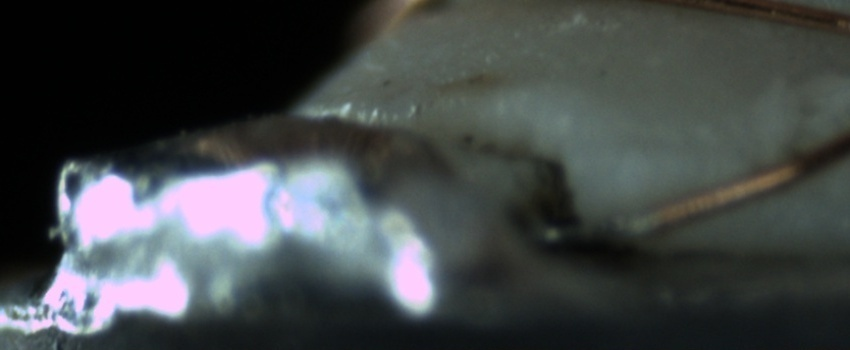DL: (600, 114, 738, 174)
